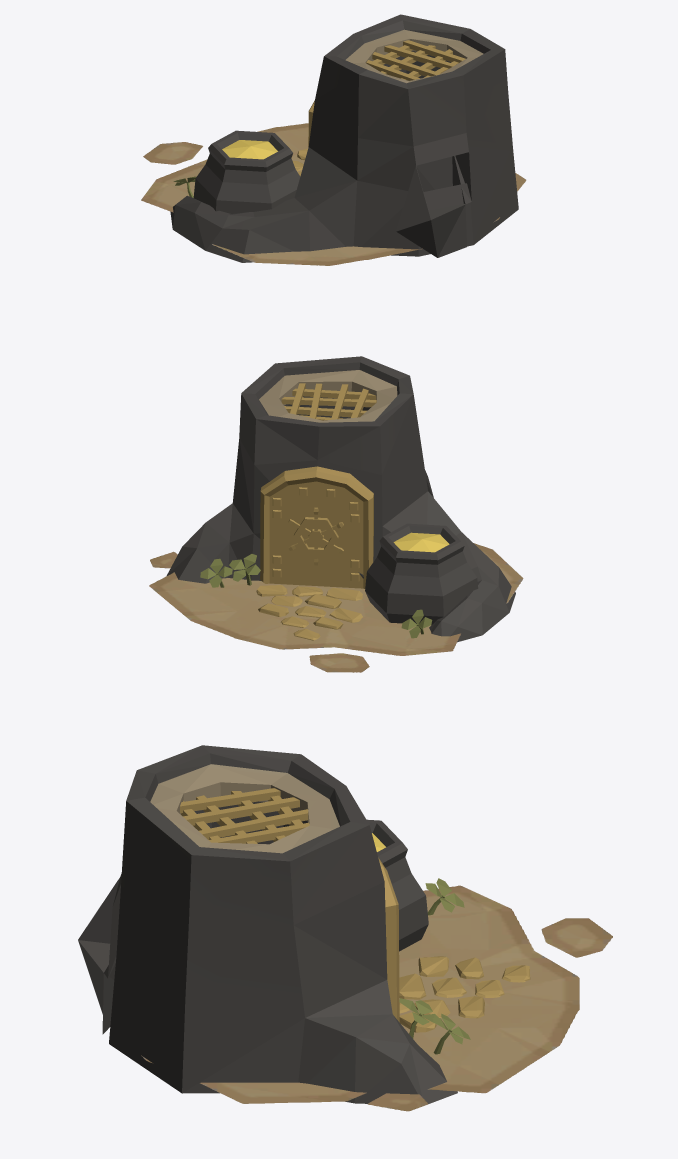
File: hauntLeprechaun.fbx
3 views of the same model, one above another, from view 1: azimuth 30°, elevation 25°; view 2: azimuth 150°, elevation 25°; view 3: azimuth 270°, elevation 25° (orthographic). The views are drawn at different scales.
Visible parts, largest first — view 1: hauntLeprechaun, groundPlane; view 2: hauntLeprechaun, groundPlane; view 3: hauntLeprechaun, groundPlane.
Boxes of the visible parts, x1,y1,x2,y2 form: hauntLeprechaun: (170,14,518,262); groundPlane: (141,123,526,265); hauntLeprechaun: (166,356,515,642); groundPlane: (149,543,523,672); hauntLeprechaun: (78,745,530,1104); groundPlane: (141,885,612,1111).
Size of the model in its own units: 4.04 by 1.55 by 3.71.
